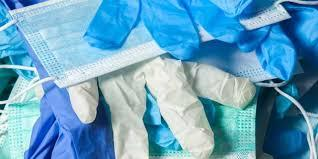Glove: (68, 57, 254, 158), (84, 0, 242, 59), (24, 81, 114, 158), (84, 0, 199, 58), (237, 24, 296, 79), (282, 3, 317, 65), (210, 0, 252, 16)
Mask: (10, 0, 164, 86), (210, 98, 256, 158), (0, 90, 39, 158)
